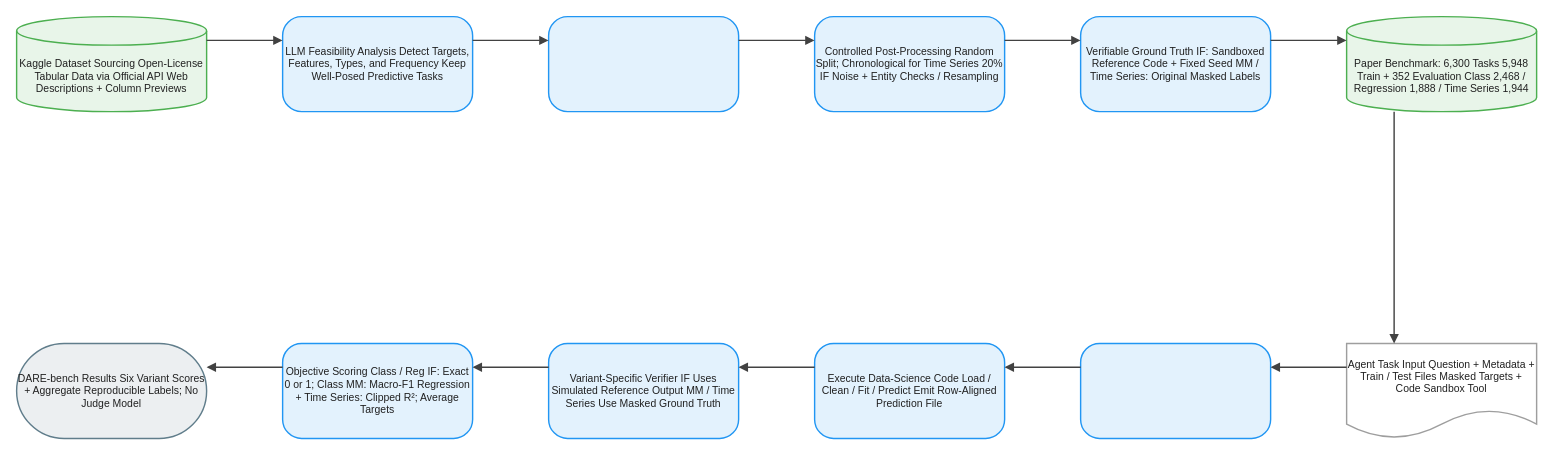
This 1554x456 diagram has some shape labels left out. Here are the shapes that lost their labels. From the top down, the centre of each, then its label:
At pixel 643 63: "Six Task Variants Classification IF / MM; Regression IF / MM Time-Series XF / CF".
At pixel 1175 390: "Bounded Agent Loop Standard Evaluation: 5 Turns 200 s Sandbox Maximum per Turn".
